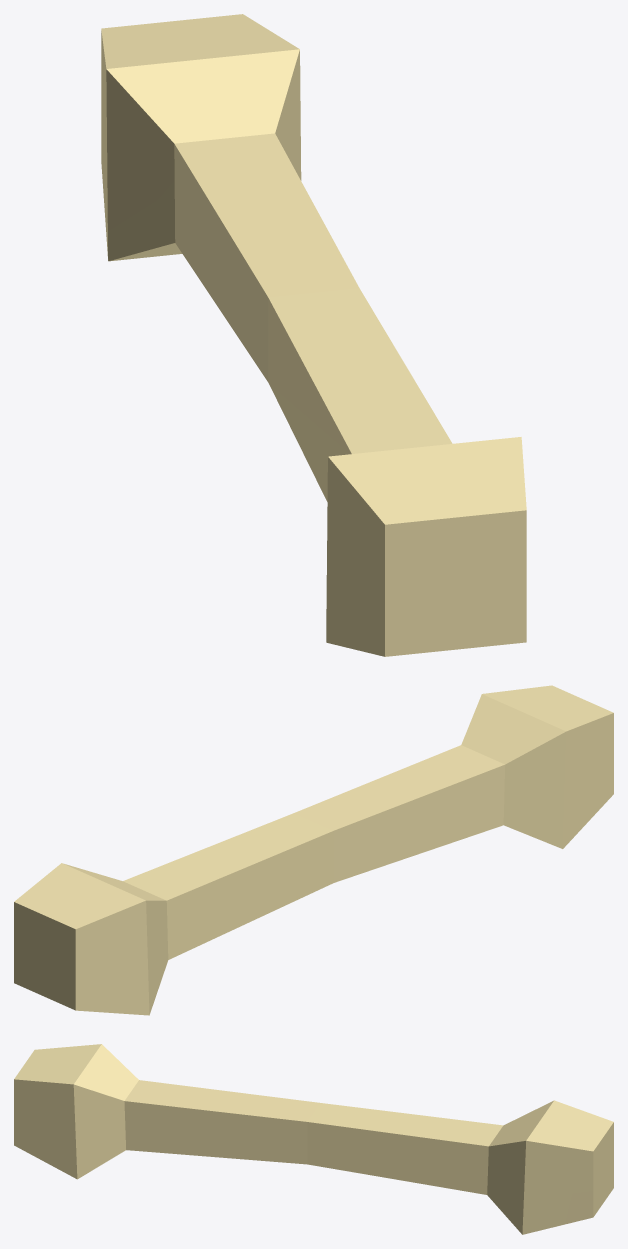
Rendered from n2_bone_beige_0_lev2.004.glb.
3 renders of one model, top to bottom at view 1: azimuth 30°, elevation 25°; view 2: azimuth 150°, elevation 25°; view 3: azimuth 270°, elevation 25°, orthographic. The views are drawn at different scales.
Parts seen in each view (by area): view 1: n2_bone_beige_0_lev2.004; view 2: n2_bone_beige_0_lev2.004; view 3: n2_bone_beige_0_lev2.004.
Boxes of the visible parts, <box> form: n2_bone_beige_0_lev2.004: <box>101,14,526,656</box>; n2_bone_beige_0_lev2.004: <box>14,685,613,1015</box>; n2_bone_beige_0_lev2.004: <box>14,1044,613,1234</box>.
Bounding box in the file's own units: 1.49 × 0.646 × 3.71.
